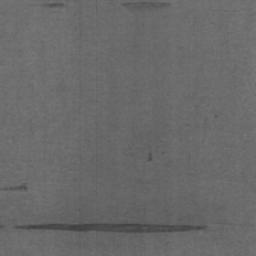Crease: (12, 223, 206, 233), (0, 184, 28, 191), (147, 152, 153, 162)
